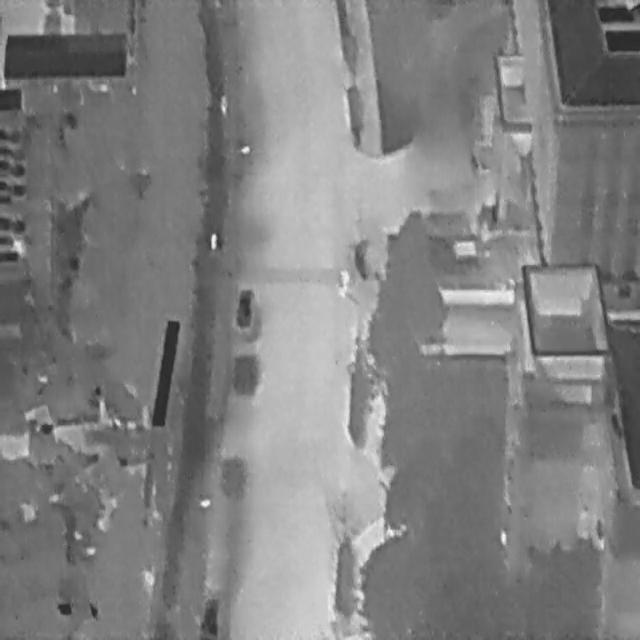Car: (234, 286, 253, 328)
Person: (219, 92, 226, 112), (209, 230, 216, 249)
